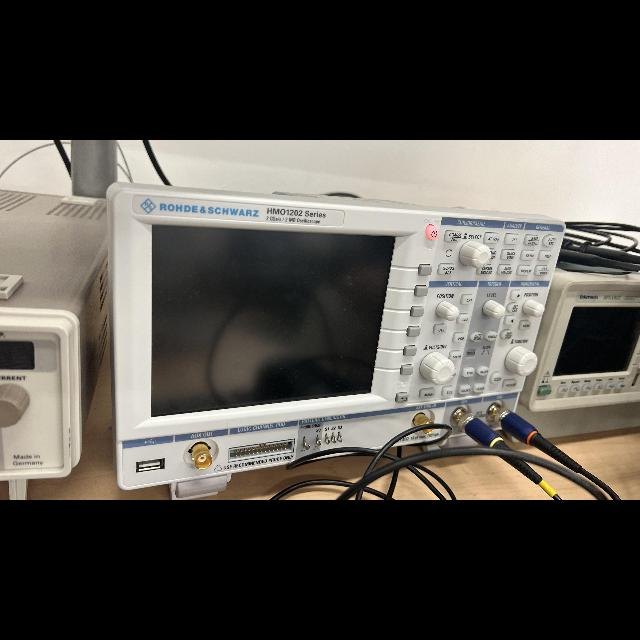Digital-Oscilloscope: (107, 183, 564, 499)
